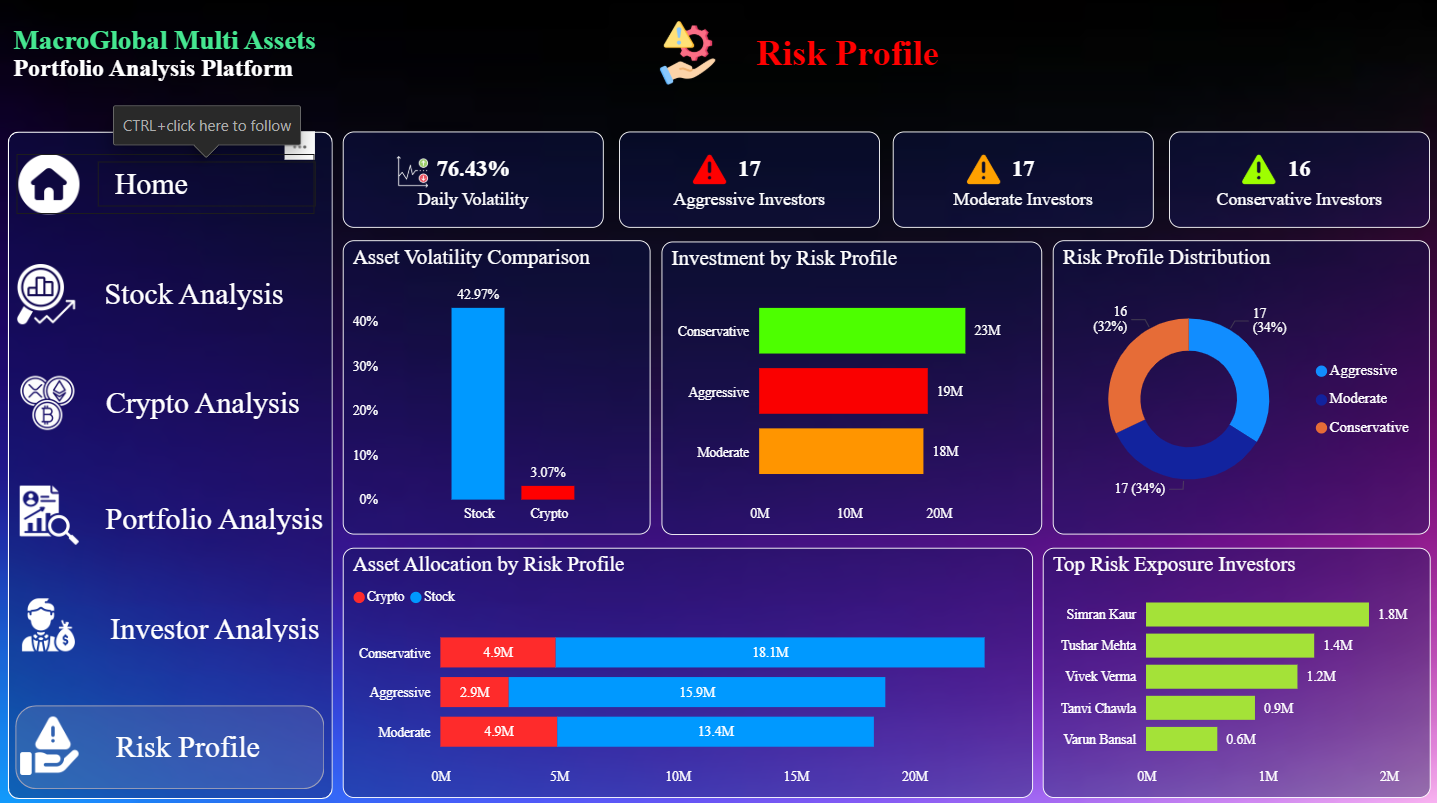

What the dashboard file says about the page in this screenshot:
{"tool":"powerbi","page":{"name":"Risk Profile","canvas":[1280,720],"ordinal":5},"visuals":[{"type":"image","box":[15.1,138.3,57.5,53.8],"z":0,"group":"g1"},{"type":"shape","box":[14.2,627.7,274.8,74.6],"z":0},{"type":"shape","box":[8.3,117.2,289,593.3],"z":1000},{"type":"actionButton","box":[87.2,145.2,193,40.3],"z":1000,"group":"g1"},{"type":"textbox","box":[412.1,24.9,667.9,86.5],"z":2000},{"type":"textbox","box":[8.3,0,297.3,138.6],"z":3000},{"type":"image","box":[579.1,16.6,66.3,62.8],"z":4000},{"type":"group","id":"g1","title":"Group 1","box":[15.1,138.3,265.3,53.3],"z":5000},{"type":"group","id":"g2","title":"Group 2","box":[11.8,332.5,279.5,53.3],"z":6000},{"type":"image","box":[16.2,429.6,56.4,58],"z":6000,"group":"g4"},{"type":"group","id":"g3","title":"Group 2","box":[11.5,235.4,279.5,53.3],"z":7000},{"type":"image","box":[15.4,531.5,56.8,50.5],"z":7000,"group":"g5"},{"type":"clusteredBarChart","title":"Top Risk Exposure Investors","fields":{"Category":["Dim_Investors.InvestorName"],"Y":["Measure.Total Investment"]},"box":[927.3,487.9,344.6,222.6],"z":8000},{"type":"image","box":[15.1,638.1,58.3,52.1],"z":8000,"group":"g6"},{"type":"actionButton","title":"Stock Analysis","box":[85.2,442.5,210.5,32.9],"z":9000,"group":"g4"},{"type":"barChart","title":"Asset Allocation by Risk Profile","fields":{"Category":["Dim_Investors.RiskProfile"],"Series":["Dim_Assets.AssetType"],"Y":["Measure.Total Investment"]},"box":[305.6,487.9,613.5,222.6],"z":9000},{"type":"clusteredBarChart","title":"Investment by Risk Profile","fields":{"Category":["Dim_Investors.RiskProfile"],"Y":["Measure.Total Investment"]},"box":[588.6,215.5,338.7,260.5],"z":10000},{"type":"actionButton","title":"Stock Analysis","box":[89.6,541.1,207.6,30.7],"z":10000,"group":"g5"},{"type":"card","fields":{"Values":["Measure.Daily Volatility"]},"box":[305.6,117.2,232.1,85.3],"z":11000},{"type":"actionButton","title":"Stock Analysis","box":[87.7,645.9,193.9,37.7],"z":11000,"group":"g6"},{"type":"card","fields":{"Values":["Measure.Aggressive Investors"]},"box":[550.7,117.2,232.1,85.3],"z":12000},{"type":"card","fields":{"Values":["Measure.Conservative Investors"]},"box":[1039.8,117.2,232.1,85.3],"z":13000},{"type":"image","box":[11.5,235.4,61.4,53.3],"z":13000,"group":"g3"},{"type":"card","fields":{"Values":["Measure.Moderate Investors"]},"box":[794.7,117.2,232.1,85.3],"z":14000},{"type":"group","id":"g4","title":"Group 7","box":[16.2,429.6,279.5,58],"z":15000},{"type":"group","id":"g5","title":"Group 8","box":[15.4,531.5,281.9,62.8],"z":16000},{"type":"actionButton","title":"Stock Analysis","box":[86.7,242.5,204.3,40.3],"z":17000,"group":"g3"},{"type":"actionButton","title":"Stock Analysis","box":[87,339.6,204.3,40.3],"z":17000,"group":"g2"},{"type":"group","id":"g6","title":"Group 9","box":[15.1,638.1,266.5,50.9],"z":17000},{"type":"image","box":[11.8,332.5,61.4,53.3],"z":17500,"group":"g2"},{"type":"donutChart","title":"Risk Profile Distribution","fields":{"Category":["Dim_Investors.RiskProfile"],"Y":["Measure.Total Investor"]},"box":[936.8,214.4,335.2,261.7],"z":18000},{"type":"columnChart","title":"Asset Volatility Comparison","fields":{"Category":["Dim_Assets.AssetType"],"Y":["Measure.Daily Volatility"]},"box":[305.6,214.4,273.6,261.7],"z":19000},{"type":"image","box":[1091.9,136.2,54.5,29.6],"z":20000},{"type":"image","box":[850.3,136.2,50.9,29.6],"z":21000},{"type":"image","box":[600.4,136.2,62.8,29.6],"z":22000},{"type":"image","box":[342.3,138.6,50.9,29.6],"z":23000}]}

Visuals, with their boxes in screenshot pixels (x1, y1, x2, y2), scaled from the page's 1280x720 canvas onto the 1437x803 screenshot:
image: {"left": 17, "top": 154, "right": 82, "bottom": 214}
shape: {"left": 16, "top": 700, "right": 324, "bottom": 783}
shape: {"left": 9, "top": 131, "right": 334, "bottom": 792}
actionButton: {"left": 98, "top": 162, "right": 315, "bottom": 207}
textbox: {"left": 463, "top": 28, "right": 1212, "bottom": 124}
textbox: {"left": 9, "top": 0, "right": 343, "bottom": 155}
image: {"left": 650, "top": 19, "right": 725, "bottom": 89}
"Group 1" group: {"left": 17, "top": 154, "right": 315, "bottom": 214}
"Group 2" group: {"left": 13, "top": 371, "right": 327, "bottom": 430}
image: {"left": 18, "top": 479, "right": 82, "bottom": 544}
"Group 2" group: {"left": 13, "top": 263, "right": 327, "bottom": 322}
image: {"left": 17, "top": 593, "right": 81, "bottom": 649}
"Top Risk Exposure Investors" clusteredBarChart: {"left": 1041, "top": 544, "right": 1428, "bottom": 792}
image: {"left": 17, "top": 712, "right": 82, "bottom": 770}
"Stock Analysis" actionButton: {"left": 96, "top": 494, "right": 332, "bottom": 530}
"Asset Allocation by Risk Profile" barChart: {"left": 343, "top": 544, "right": 1032, "bottom": 792}
"Investment by Risk Profile" clusteredBarChart: {"left": 661, "top": 240, "right": 1041, "bottom": 531}
"Stock Analysis" actionButton: {"left": 101, "top": 603, "right": 334, "bottom": 638}
card - Measure.Daily Volatility: {"left": 343, "top": 131, "right": 604, "bottom": 226}
"Stock Analysis" actionButton: {"left": 98, "top": 720, "right": 316, "bottom": 762}
card - Measure.Aggressive Investors: {"left": 618, "top": 131, "right": 879, "bottom": 226}
card - Measure.Conservative Investors: {"left": 1167, "top": 131, "right": 1428, "bottom": 226}
image: {"left": 13, "top": 263, "right": 82, "bottom": 322}
card - Measure.Moderate Investors: {"left": 892, "top": 131, "right": 1153, "bottom": 226}
"Group 7" group: {"left": 18, "top": 479, "right": 332, "bottom": 544}
"Group 8" group: {"left": 17, "top": 593, "right": 334, "bottom": 663}
"Stock Analysis" actionButton: {"left": 97, "top": 270, "right": 327, "bottom": 315}
"Stock Analysis" actionButton: {"left": 98, "top": 379, "right": 327, "bottom": 424}
"Group 9" group: {"left": 17, "top": 712, "right": 316, "bottom": 768}
image: {"left": 13, "top": 371, "right": 82, "bottom": 430}
"Risk Profile Distribution" donutChart: {"left": 1052, "top": 239, "right": 1428, "bottom": 531}
"Asset Volatility Comparison" columnChart: {"left": 343, "top": 239, "right": 650, "bottom": 531}
image: {"left": 1226, "top": 152, "right": 1287, "bottom": 185}
image: {"left": 955, "top": 152, "right": 1012, "bottom": 185}
image: {"left": 674, "top": 152, "right": 745, "bottom": 185}
image: {"left": 384, "top": 155, "right": 441, "bottom": 188}
